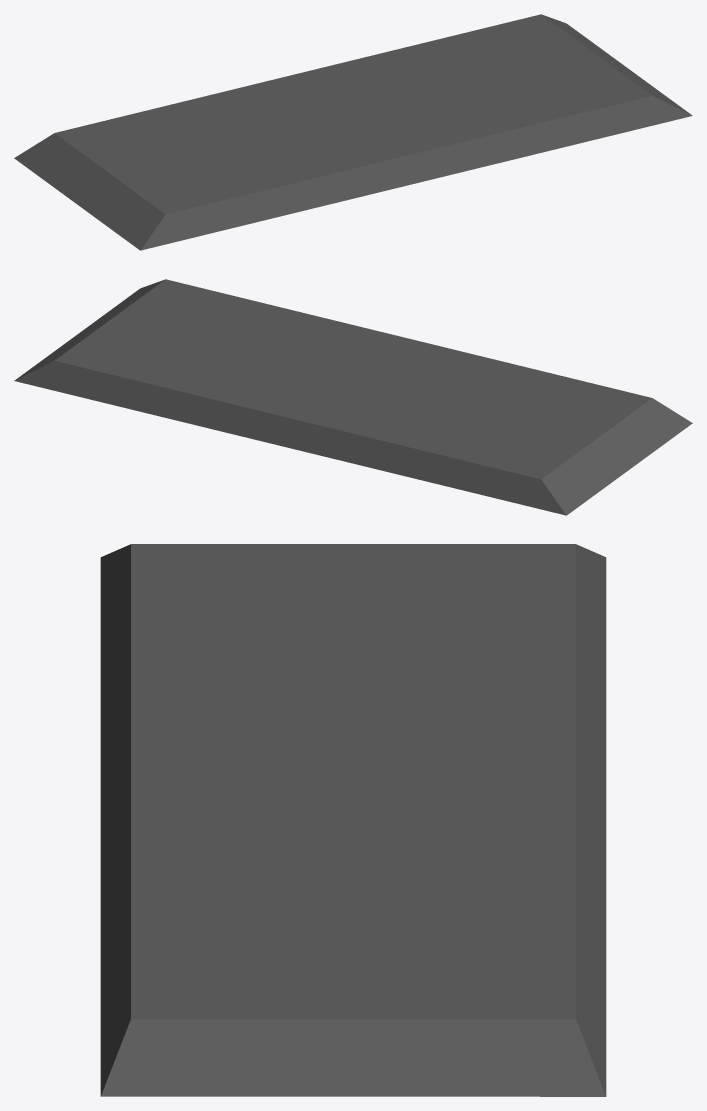
File: Itr_Wardrobe1_Base_04.FBX
3 renders of one model, top to bottom at view 1: azimuth 30°, elevation 25°; view 2: azimuth 150°, elevation 25°; view 3: azimuth 270°, elevation 25°, orthographic. The views are drawn at different scales.
Parts seen in each view (by area): view 1: Itr_Wardrobe1_Base_04; view 2: Itr_Wardrobe1_Base_04; view 3: Itr_Wardrobe1_Base_04.
Boxes of the visible parts, x1,y1,x2,y2 form: Itr_Wardrobe1_Base_04: (14,14,692,250); Itr_Wardrobe1_Base_04: (14,279,692,515); Itr_Wardrobe1_Base_04: (100,544,606,1096).
Size of the model in its own units: 50.57 by 1.99 by 20.02.
